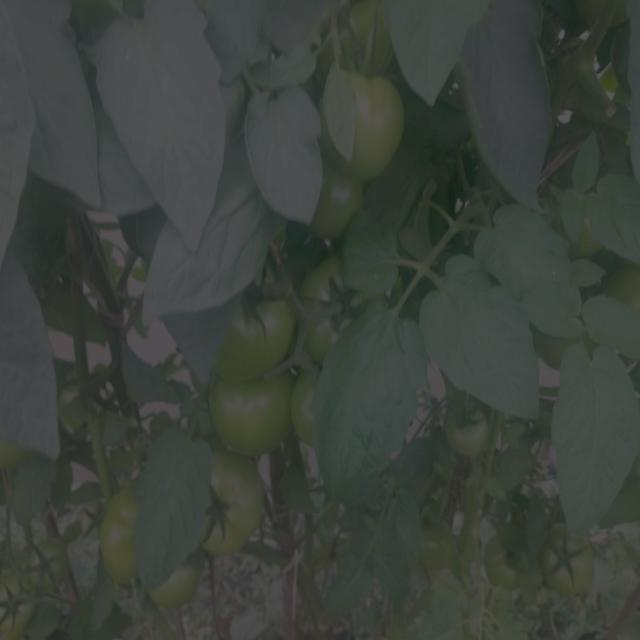tomato: (208, 444, 274, 564), (210, 370, 297, 456), (291, 253, 353, 358), (348, 70, 405, 179), (542, 515, 597, 601), (238, 285, 290, 363), (317, 155, 366, 236), (440, 394, 490, 455), (105, 492, 138, 581), (33, 538, 79, 596), (157, 565, 214, 610), (1, 565, 30, 639), (487, 548, 527, 597), (607, 261, 640, 309)
